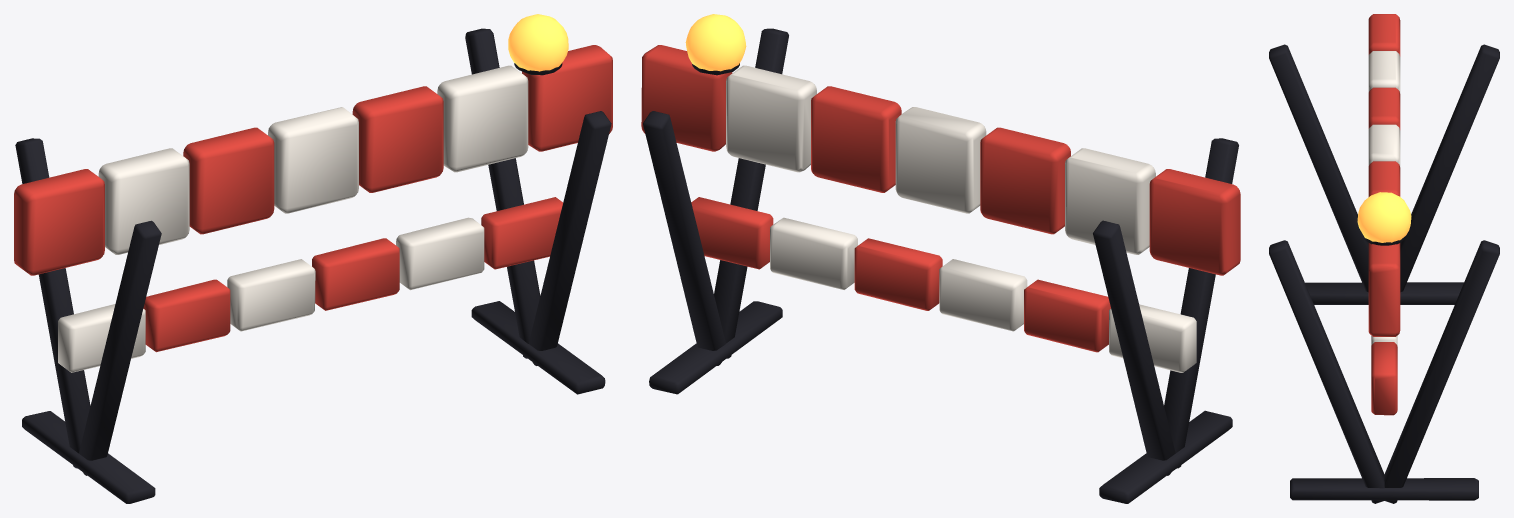
File: barricade.glb
3 renders of one model, left to right at view 1: azimuth 30°, elevation 25°; view 2: azimuth 150°, elevation 25°; view 3: azimuth 270°, elevation 25°, orthographic. The views are drawn at different scales.
Parts seen in each view (by area): view 1: barricade.014, lamp.013; view 2: barricade.014, lamp.013; view 3: barricade.014, lamp.013.
Boxes of the visible parts, x1,y1,x2,y2 form: barricade.014: [14, 28, 612, 503]; lamp.013: [508, 14, 568, 71]; barricade.014: [641, 28, 1240, 503]; lamp.013: [685, 14, 746, 71]; barricade.014: [1269, 14, 1499, 503]; lamp.013: [1357, 192, 1411, 242].
Size of the model in its own units: 2.22 by 1.24 by 0.8474.
Materials: 1 (1 with a texture image).
